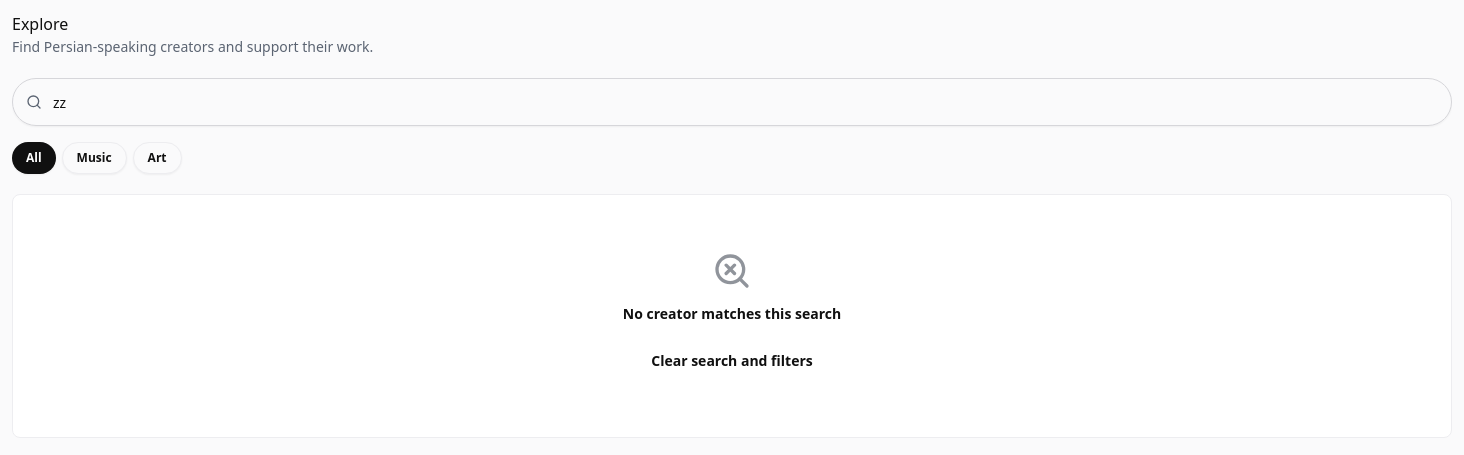
ExploreView › shows a no-results state with a way back when a search is empty
This screenshot has width=1464, height=455.
Expected: the text "No creator matches this search" is shown, [623,303,841,325]
Click the button "Clear search and filters": (732, 361) [635,341,829,381]
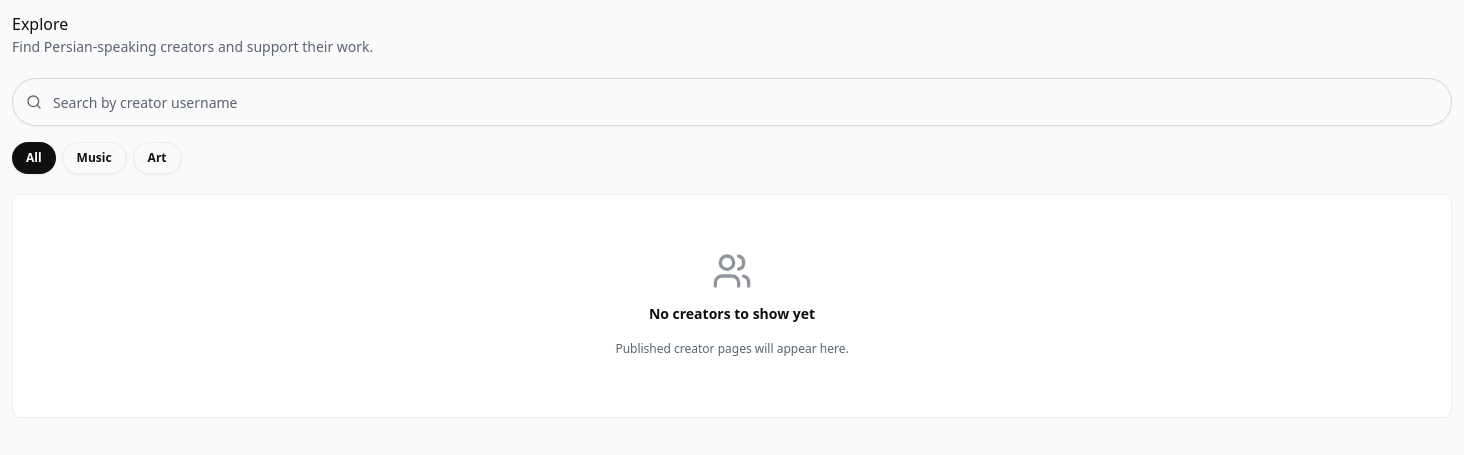
Expected: the search field is empty, [12,78,1452,126]
